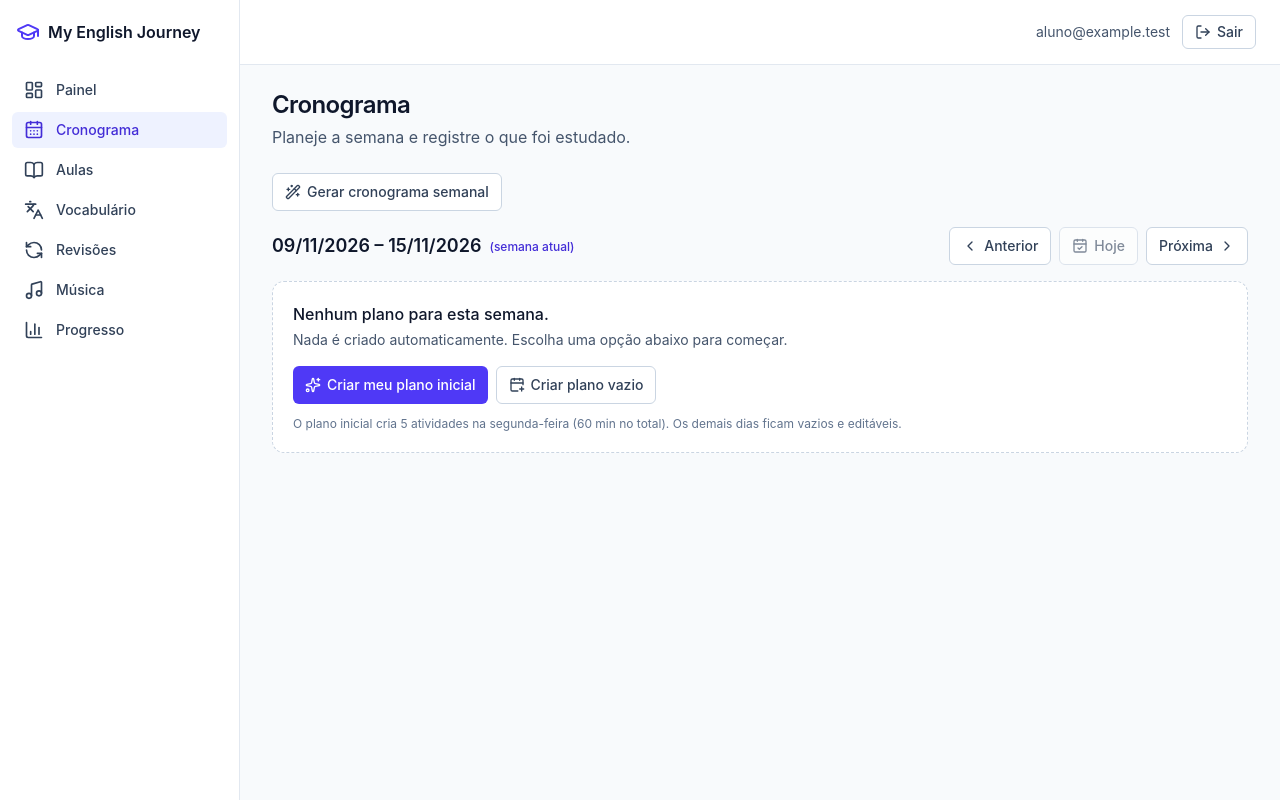
Test: Cronograma — navegação e estados › 2. Anterior / Hoje / Próxima saltam exatamente sete dias
Expected: the text "Nenhum plano para esta semana." is shown, [293, 304, 549, 324]
Expected: the heading named "Semana de" shows "09/11/2026 – 15/11/2026", [272, 235, 482, 256]
Click the button "Próxima" at (1197, 246), box [1146, 227, 1248, 265]
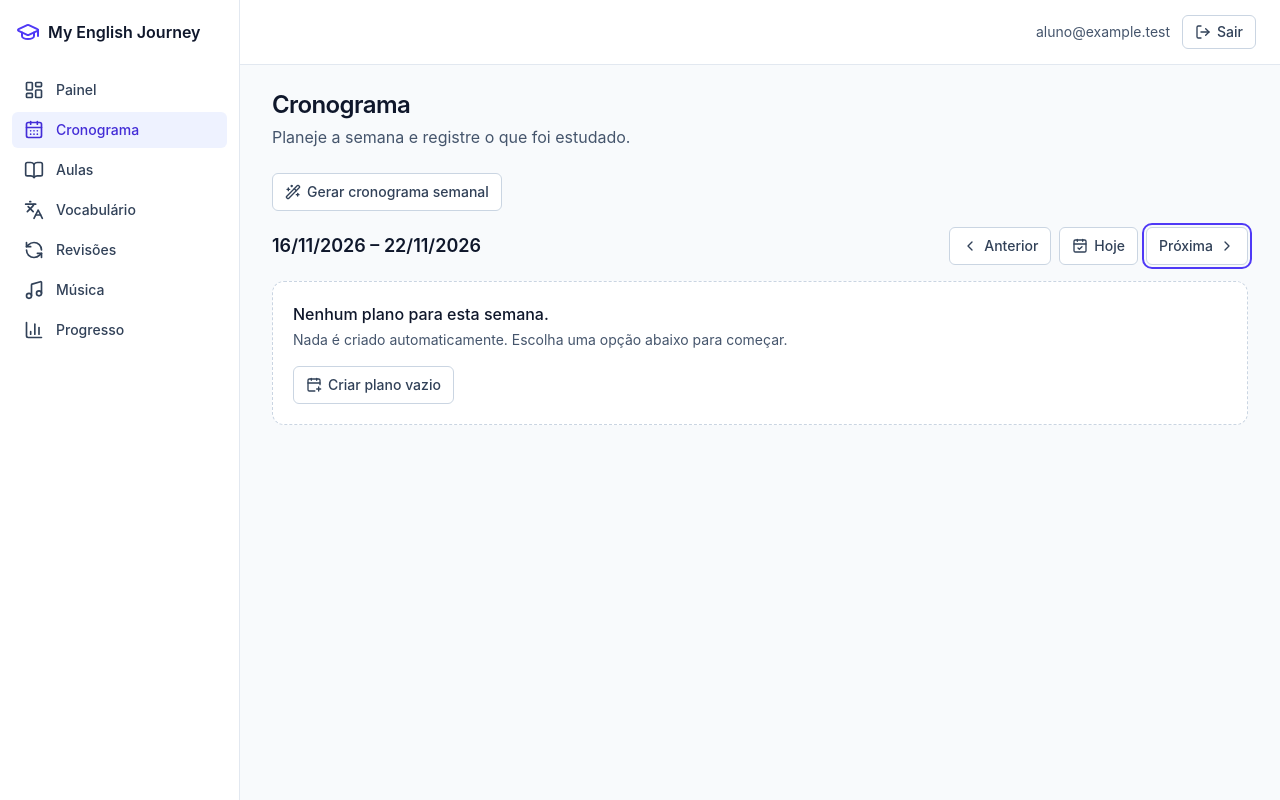
Result: the heading named "Semana de" reads "16/11/2026 – 22/11/2026" at [272, 235, 481, 256]
Click the button "Anterior" at (1000, 246), box [949, 227, 1051, 265]
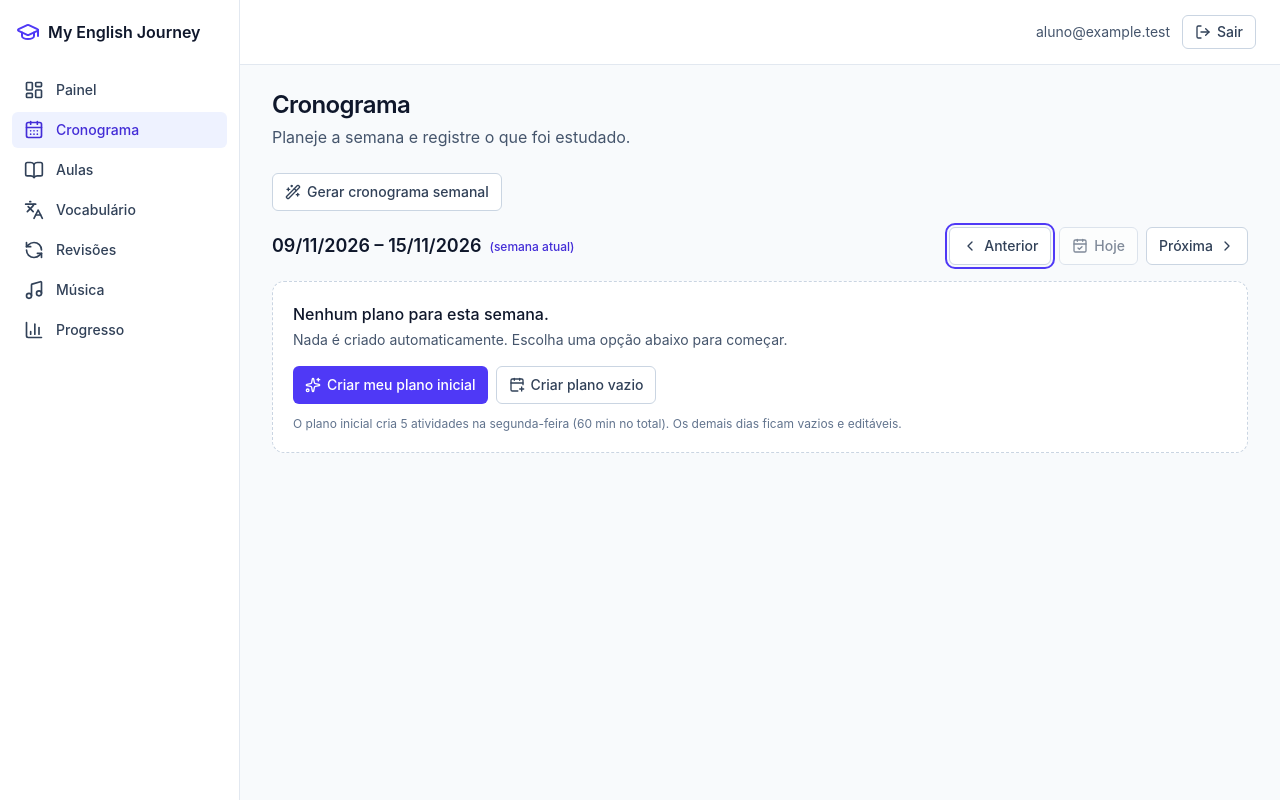
Click the button "Anterior" at (1000, 246), box [949, 227, 1051, 265]
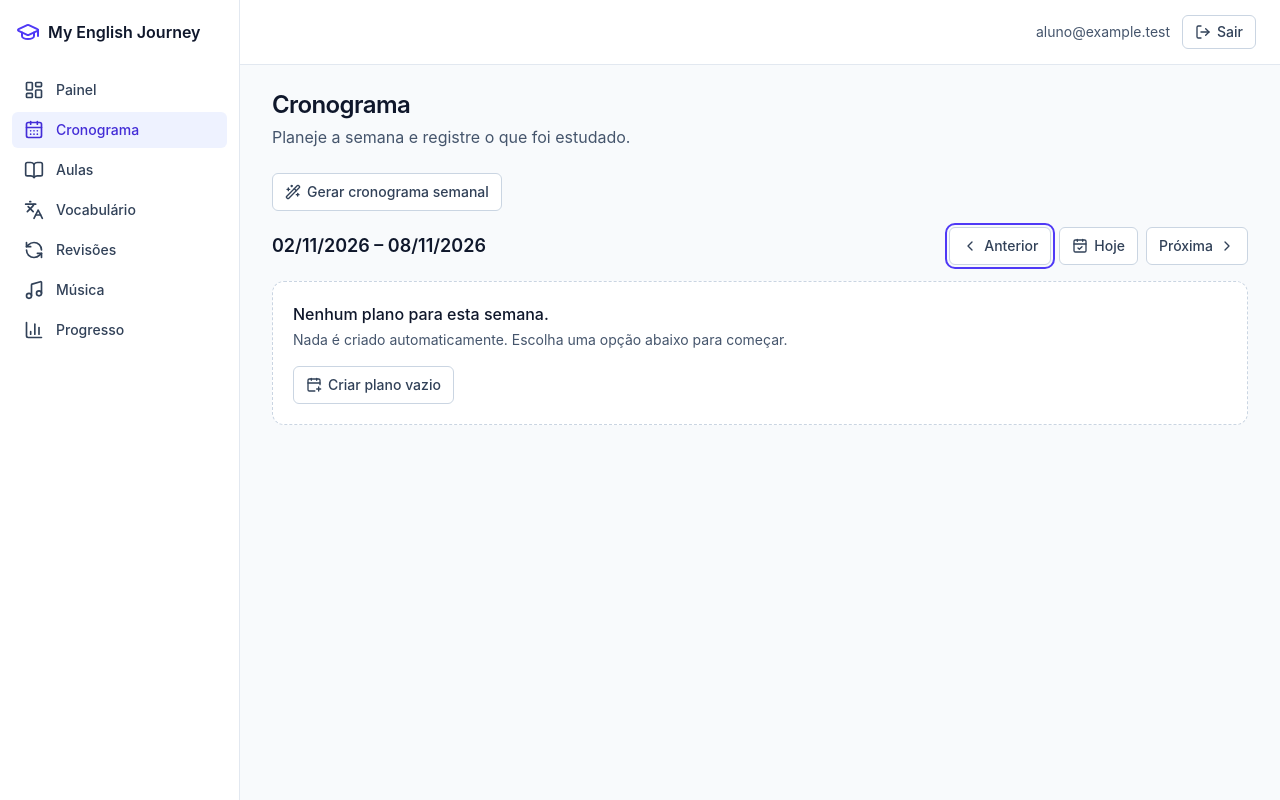
Result: the heading named "Semana de" reads "02/11/2026 – 08/11/2026" at [272, 235, 486, 256]
Click the button "Hoje" at (1099, 246), box [1059, 227, 1138, 265]
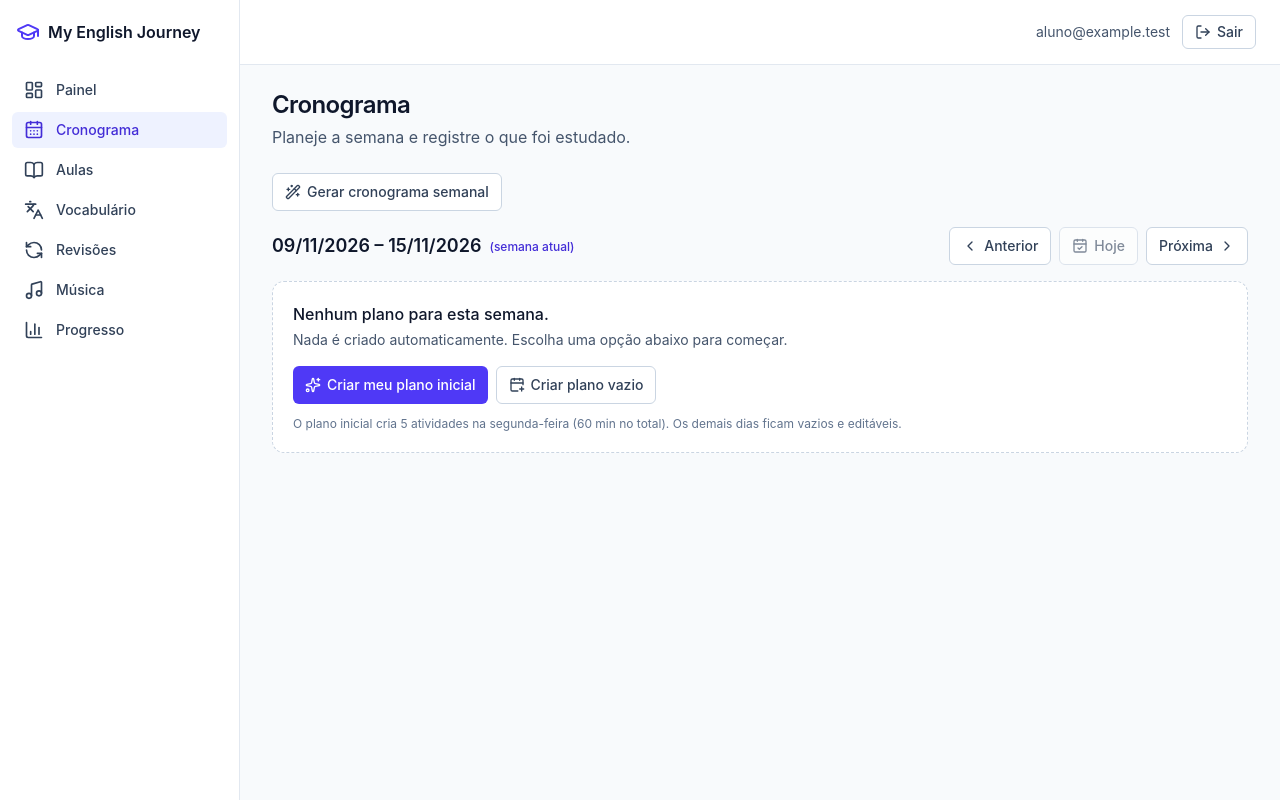
Result: the heading named "Semana de" shows "09/11/2026 – 15/11/2026" at [272, 235, 482, 256]
